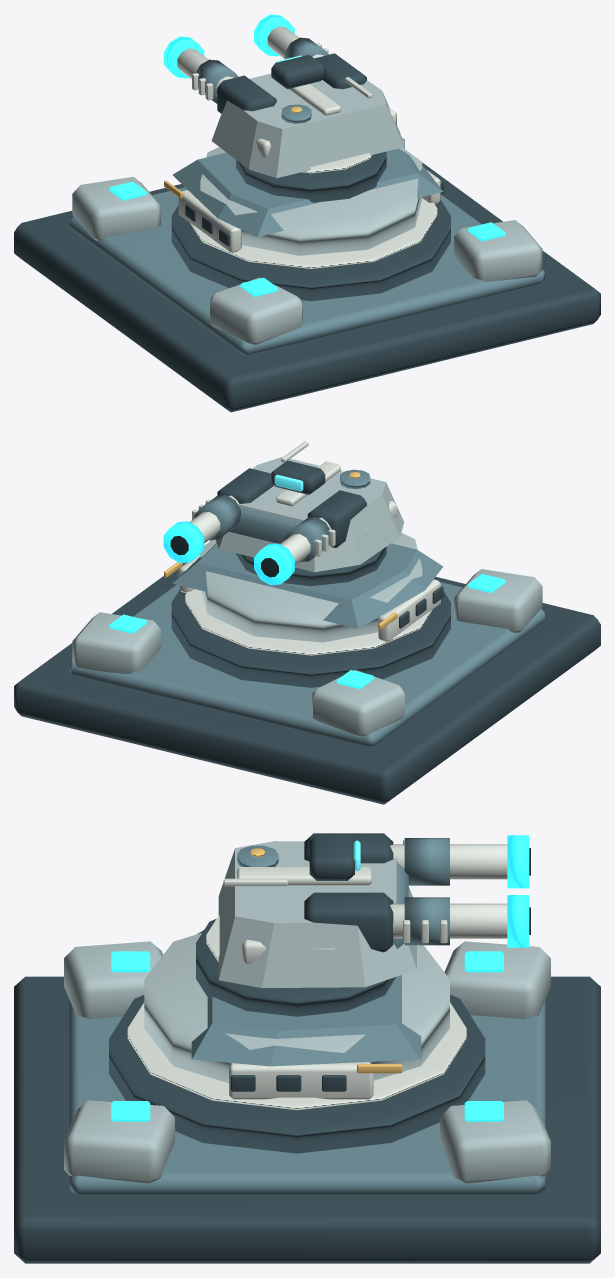
The model's file is defense-turret.glb.
3 views of the same model, one above another, from view 1: azimuth 30°, elevation 25°; view 2: azimuth 150°, elevation 25°; view 3: azimuth 270°, elevation 25° (orthographic). The views are drawn at different scales.
Visible parts, largest first — view 1: Turret emplacement, Rotating gun assembly, Reinforced firing deck, Angled armor buttress, Machined traverse ring, Buttress signal inset; view 2: Turret emplacement, Reinforced firing deck, Rotating gun assembly, Angled armor buttress, Machined traverse ring, Buttress signal inset; view 3: Turret emplacement, Rotating gun assembly, Reinforced firing deck, Angled armor buttress, Machined traverse ring, Buttress signal inset.
Part boxes in pixels (x1,y1,x2,y2): Turret emplacement: [14, 162, 600, 412]; Rotating gun assembly: [163, 14, 403, 202]; Reinforced firing deck: [70, 148, 544, 354]; Angled armor buttress: [72, 137, 542, 344]; Machined traverse ring: [178, 170, 440, 268]; Buttress signal inset: [109, 181, 505, 296]; Turret emplacement: [14, 562, 600, 804]; Reinforced firing deck: [70, 543, 544, 747]; Rotating gun assembly: [163, 441, 404, 586]; Angled armor buttress: [72, 533, 542, 737]; Machined traverse ring: [178, 554, 440, 655]; Buttress signal inset: [109, 574, 505, 689]; Turret emplacement: [14, 976, 600, 1263]; Rotating gun assembly: [196, 833, 530, 1016]; Reinforced firing deck: [69, 930, 545, 1194]; Angled armor buttress: [64, 933, 550, 1183]; Machined traverse ring: [127, 1002, 466, 1110]; Buttress signal inset: [111, 951, 503, 1121].
Size of the model in its own units: 2.84 by 1.59 by 2.84.
